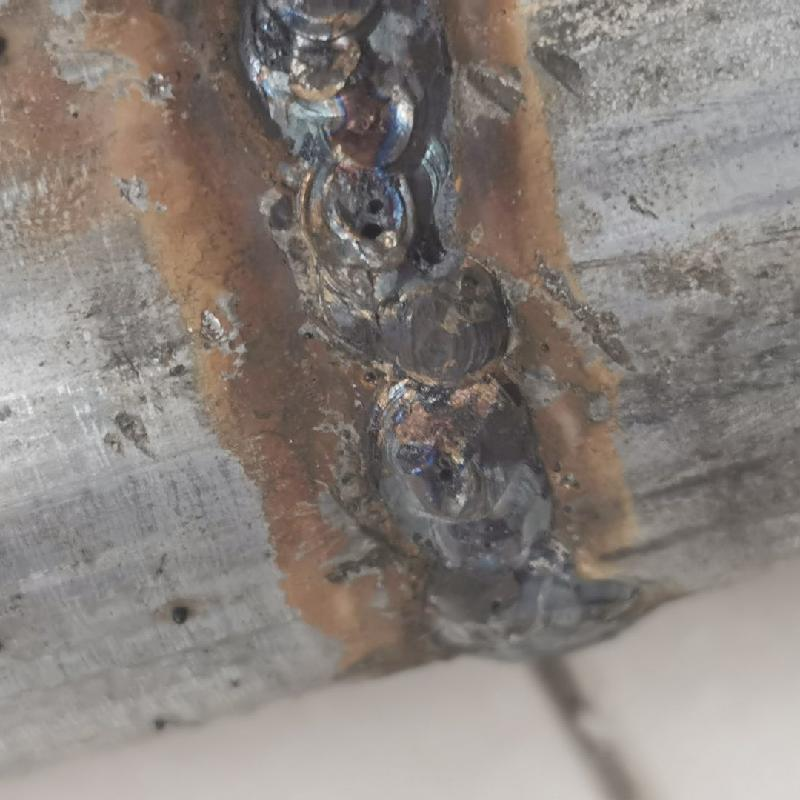Surface_pores: (353, 185, 393, 247), (425, 452, 457, 499)
crater: (234, 1, 431, 275)
wrong_size: (348, 277, 588, 642)
